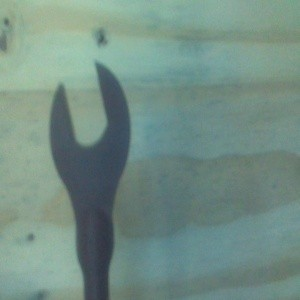spanner: (48, 60, 132, 300)
